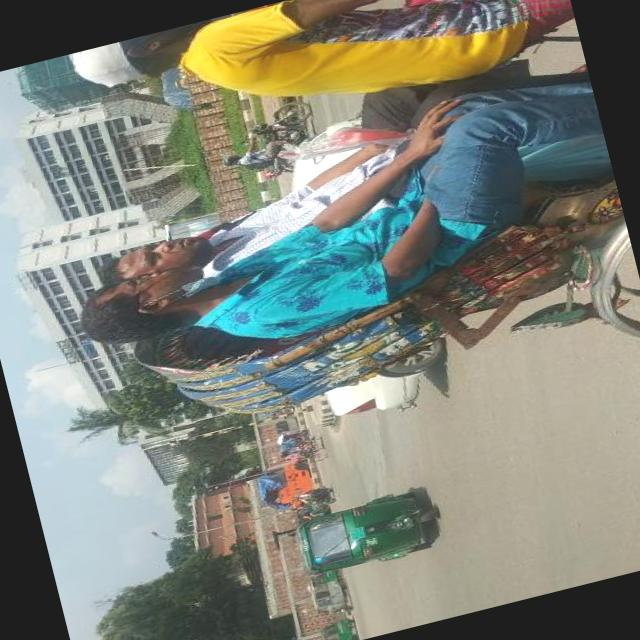motorcycle: (67, 121, 640, 445), (282, 481, 447, 582), (244, 95, 320, 173), (275, 430, 330, 468), (306, 575, 352, 619), (290, 482, 334, 512), (314, 613, 360, 640), (268, 415, 298, 436)
